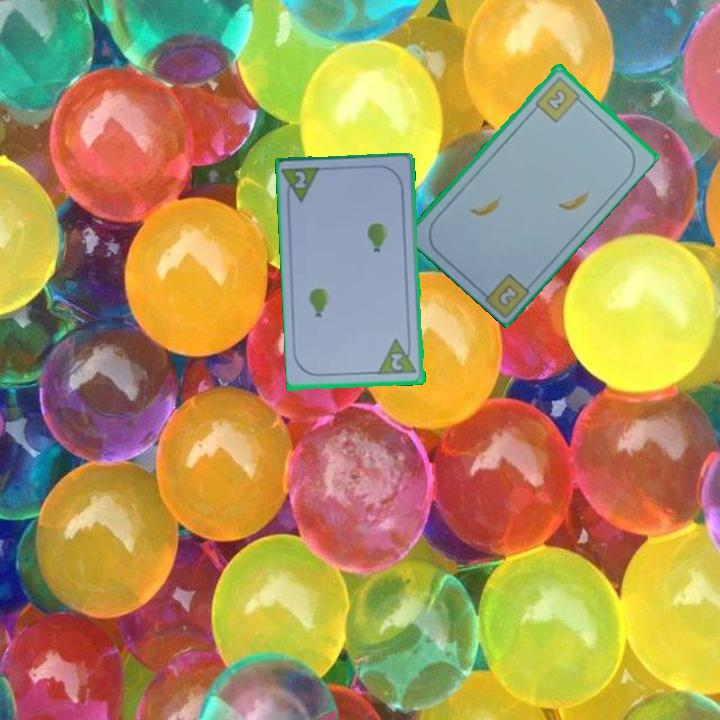2b: (532, 73, 586, 125), (494, 281, 522, 309)
2p: (376, 336, 420, 378), (291, 168, 309, 191)
